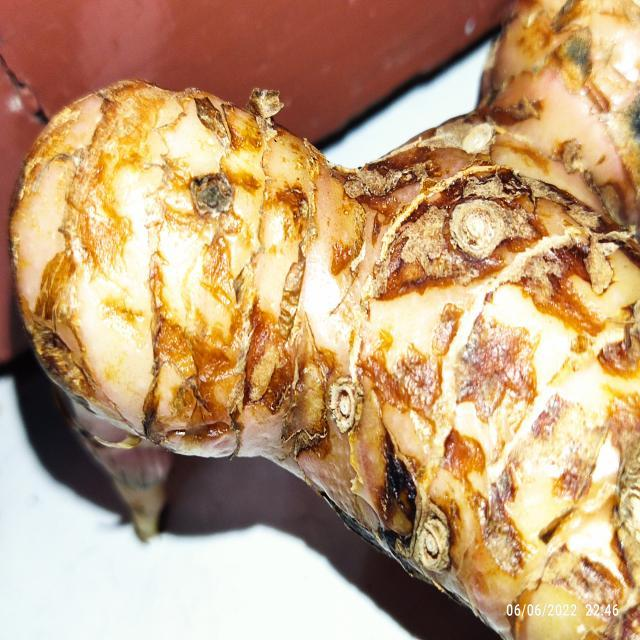ginger: (21, 23, 640, 566)
